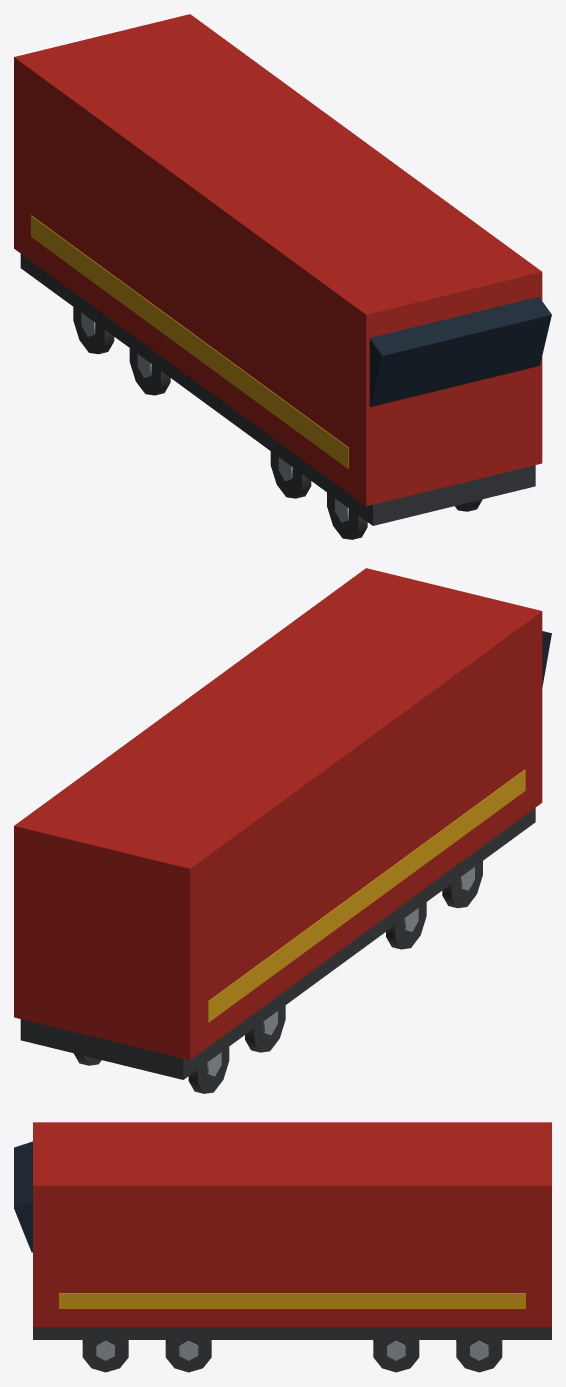
The model's file is veh_ground_locomotive_a07.glb.
The picture shows the model from 3 angles, top to bottom: view 1: azimuth 30°, elevation 25°; view 2: azimuth 150°, elevation 25°; view 3: azimuth 270°, elevation 25°; orthographic projection. The views are drawn at different scales.
Parts seen in each view (by area): view 1: body, wheel_4, wheel_2, wheel_0, wheel_6; view 2: body, wheel_0, wheel_2, wheel_4, wheel_6; view 3: body, wheel_3, wheel_7, wheel_1, wheel_5.
Boxes of the visible parts, <box> form: body: <box>14,14,551,525</box>; wheel_4: <box>270,451,311,498</box>; wheel_2: <box>129,348,170,395</box>; wheel_0: <box>73,307,114,354</box>; wheel_6: <box>327,492,367,539</box>; body: <box>14,568,551,1079</box>; wheel_0: <box>188,1047,229,1093</box>; wheel_2: <box>245,1005,285,1052</box>; wheel_4: <box>386,902,426,949</box>; wheel_6: <box>442,861,482,908</box>; body: <box>14,1122,551,1339</box>; wheel_3: <box>373,1340,419,1372</box>; wheel_7: <box>82,1340,128,1372</box>; wheel_1: <box>456,1340,502,1372</box>; wheel_5: <box>165,1340,211,1372</box>.
Size of what is drawn, in the model's own units: 2.62 by 3.75 by 9.33.
